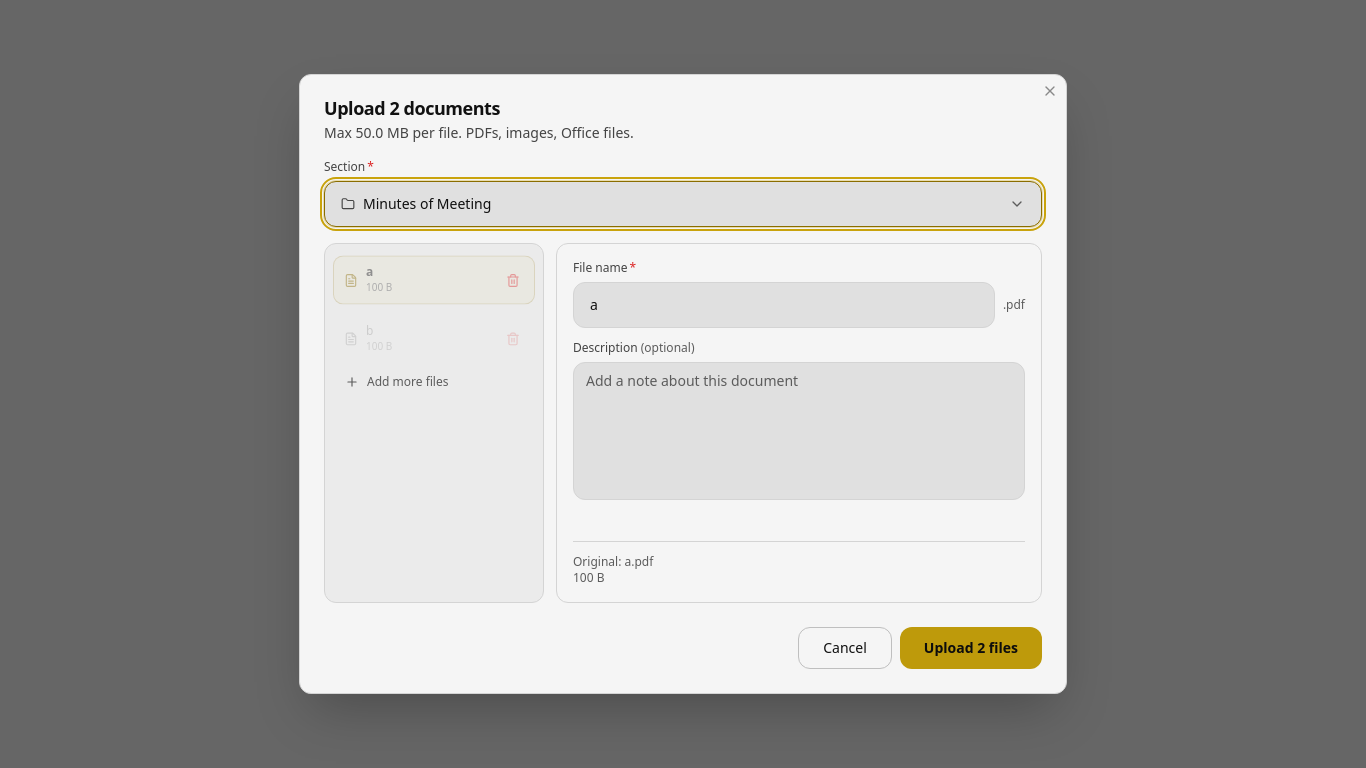
UploadDocumentDialog › marks failed files with the error status on partial failure
Click the button "Upload 2 files": (971, 648) [900,627,1042,669]
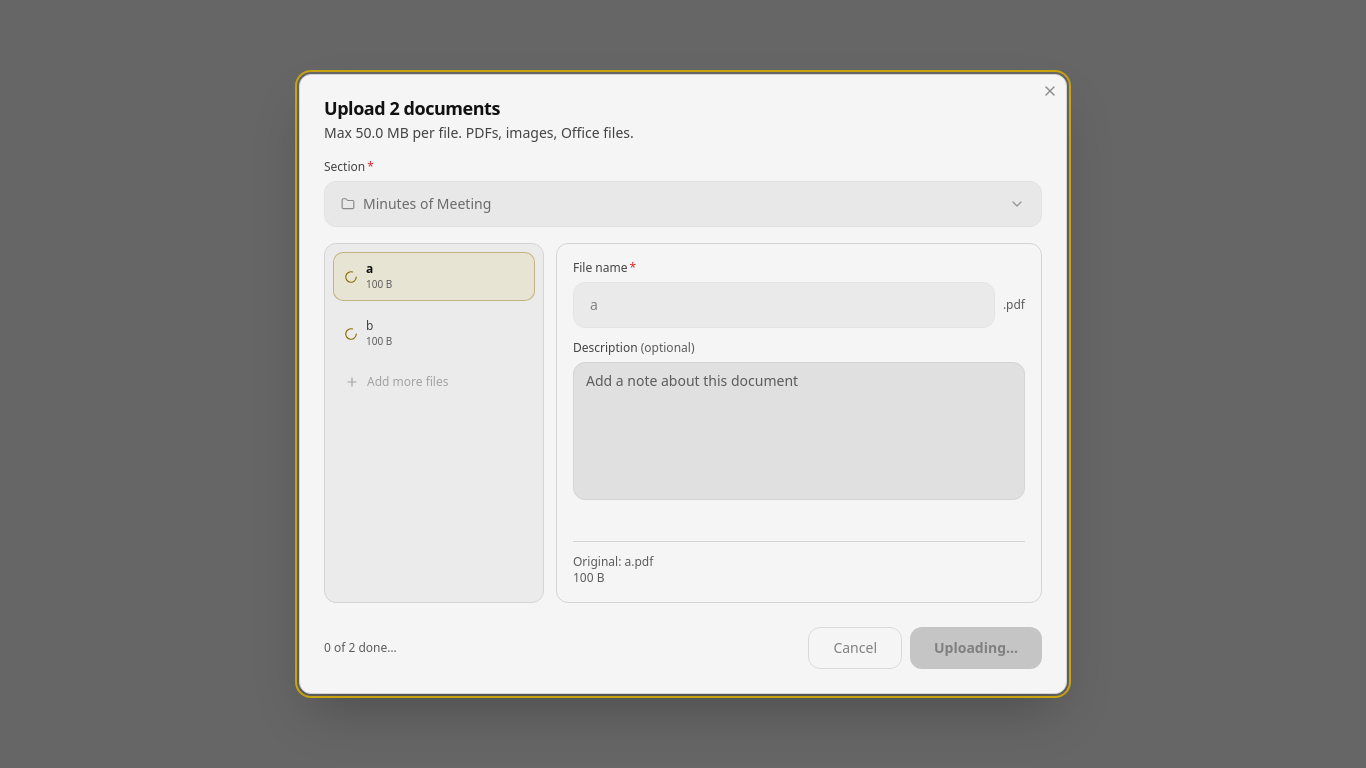
Click the text "b": (370, 326) [366,317,373,334]
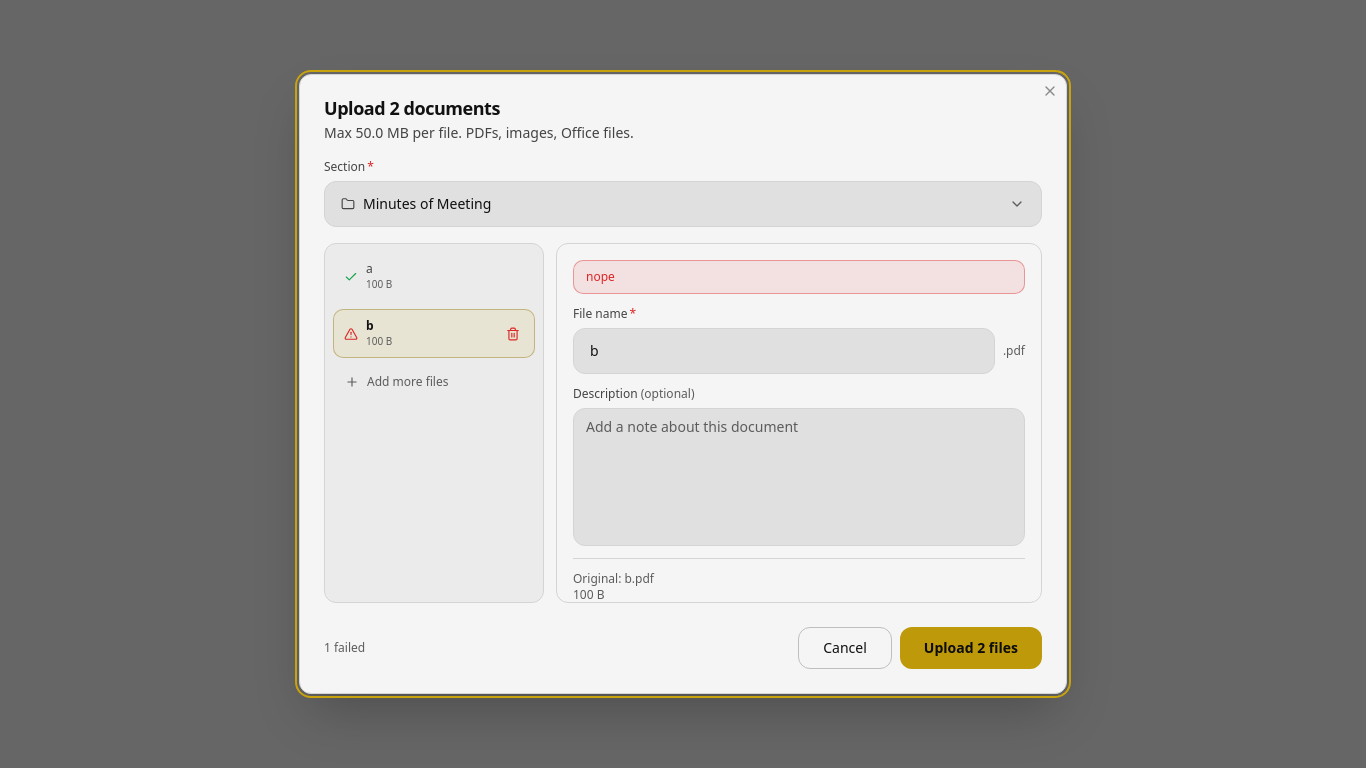
Result: the text "nope" is shown at [573,260,1025,294]
